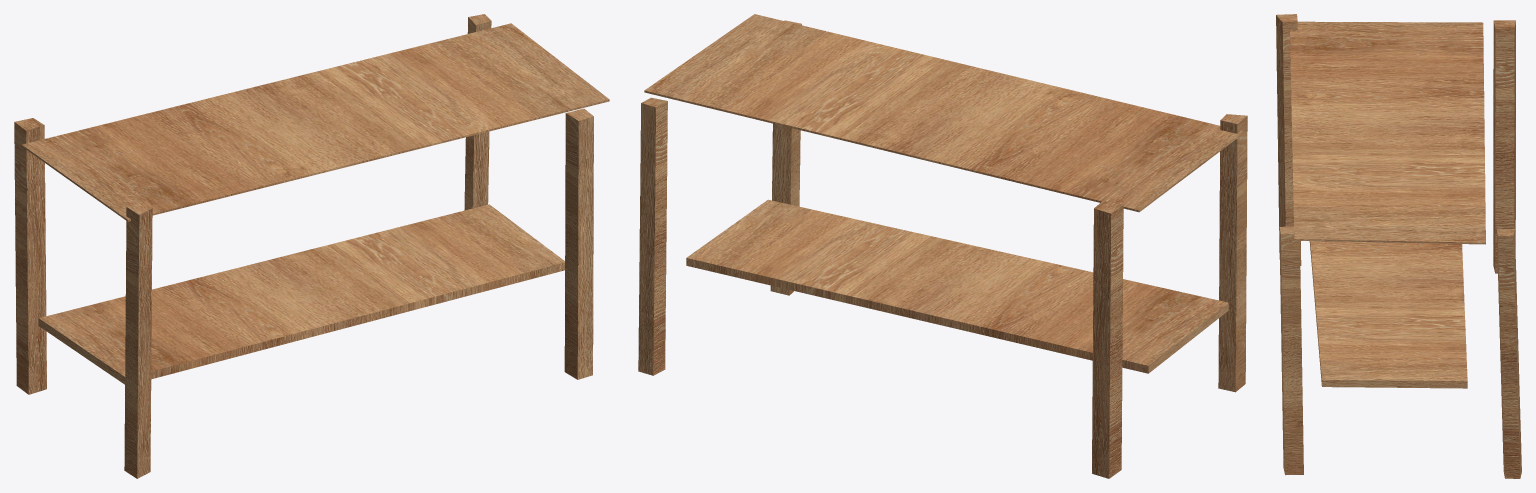
The model's file is 21700_ours.glb.
The picture shows the model from 3 angles, left to right: view 1: azimuth 30°, elevation 25°; view 2: azimuth 150°, elevation 25°; view 3: azimuth 270°, elevation 25°; orthographic projection. The views are drawn at different scales.
Parts seen in each view (by area): view 1: ParentEmpty; view 2: ParentEmpty; view 3: ParentEmpty.
Part boxes in pixels (x1,y1,x2,y2): ParentEmpty: (14,14,609,478); ParentEmpty: (638,14,1247,478); ParentEmpty: (1276,14,1521,478).
Bounding box in the file's own units: 1 × 0.5374 × 0.471.
Materials: 1 (1 with a texture image).
